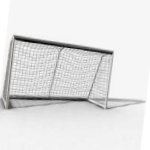goals: (1, 34, 115, 115)
